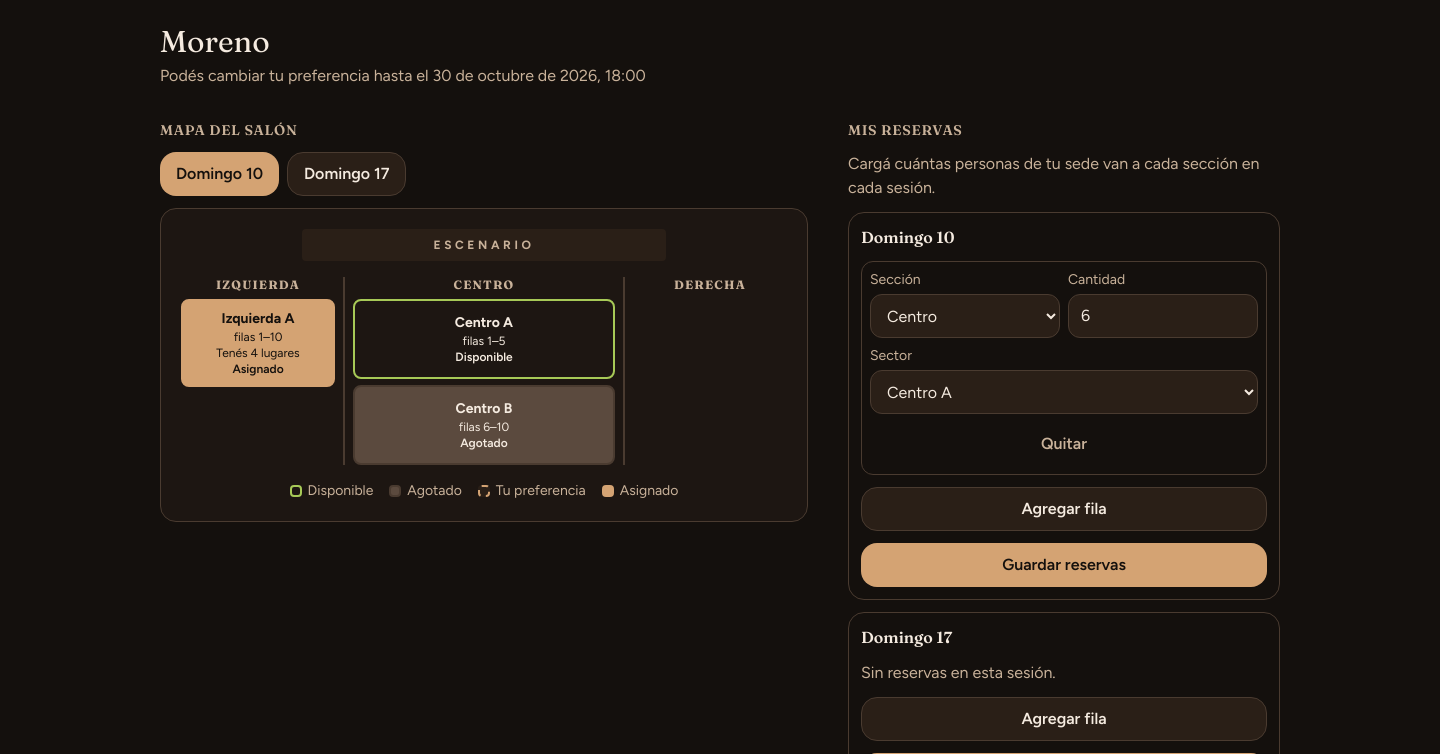
Test case: SedePanel › si el servidor rechaza las reservas muestra el motivo por fila
Step 1. Click the button with aria-label "Guardar reservas de Domingo 10" → [1064, 565], box x1=861 y1=543 x2=1267 y2=587
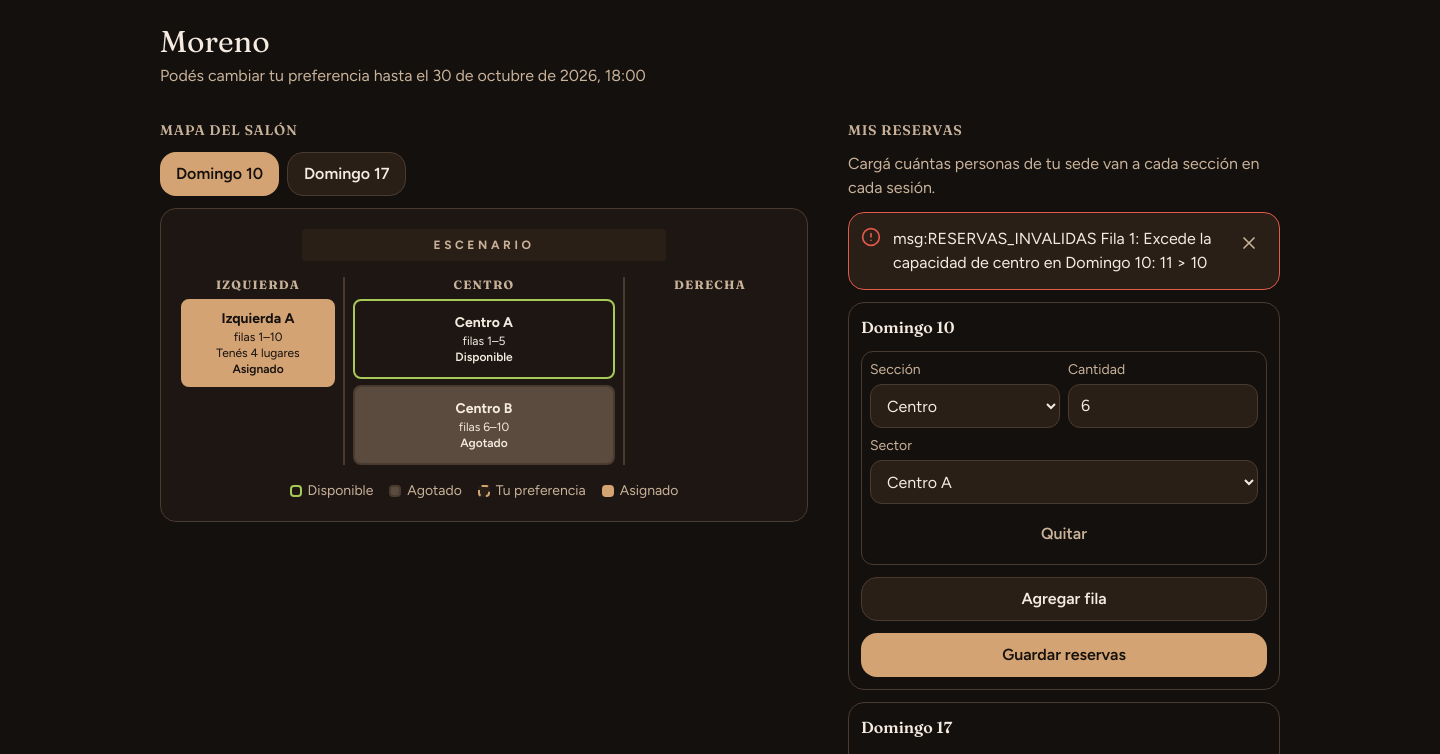
Expected: the message shows "Fila 1: Excede la capacidad de centro en Domingo 10: 11 > 10", x1=893 y1=229 x2=1211 y2=272
